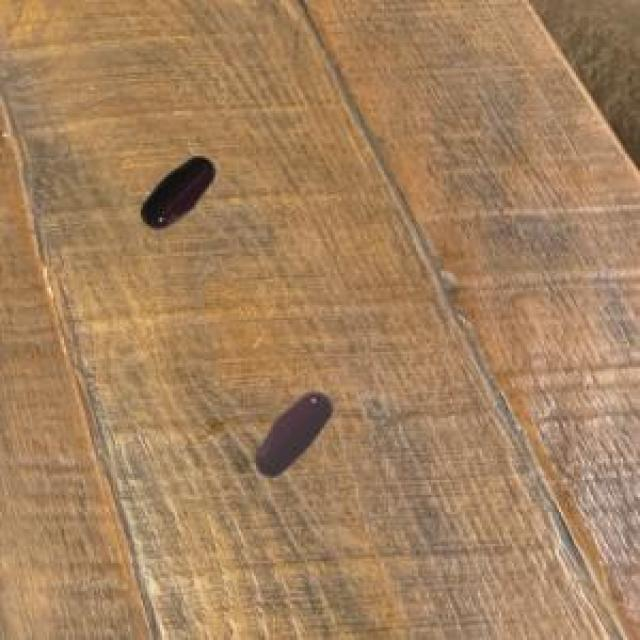DayZinc: (238, 368, 344, 496), (128, 142, 223, 246)
